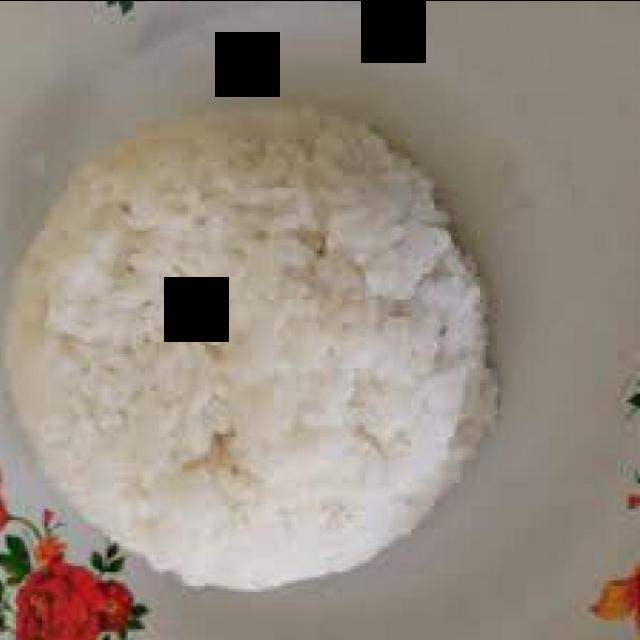rice: (11, 109, 499, 588)
